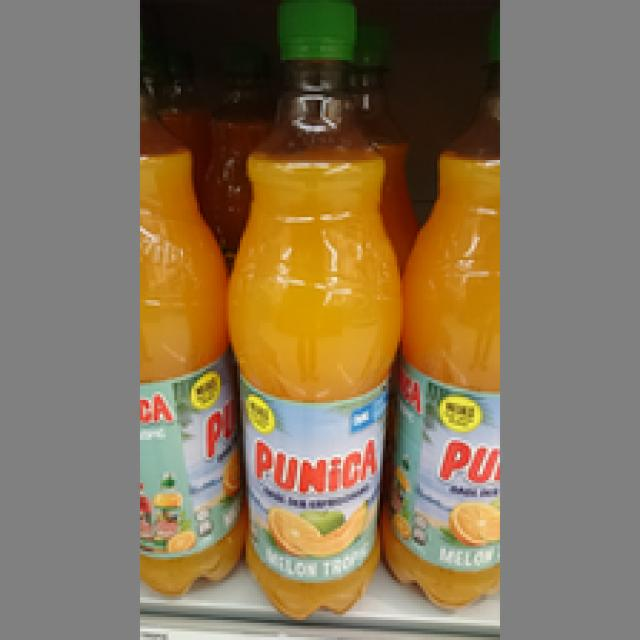groceries: (223, 3, 400, 620), (383, 57, 491, 609), (140, 83, 229, 591)
